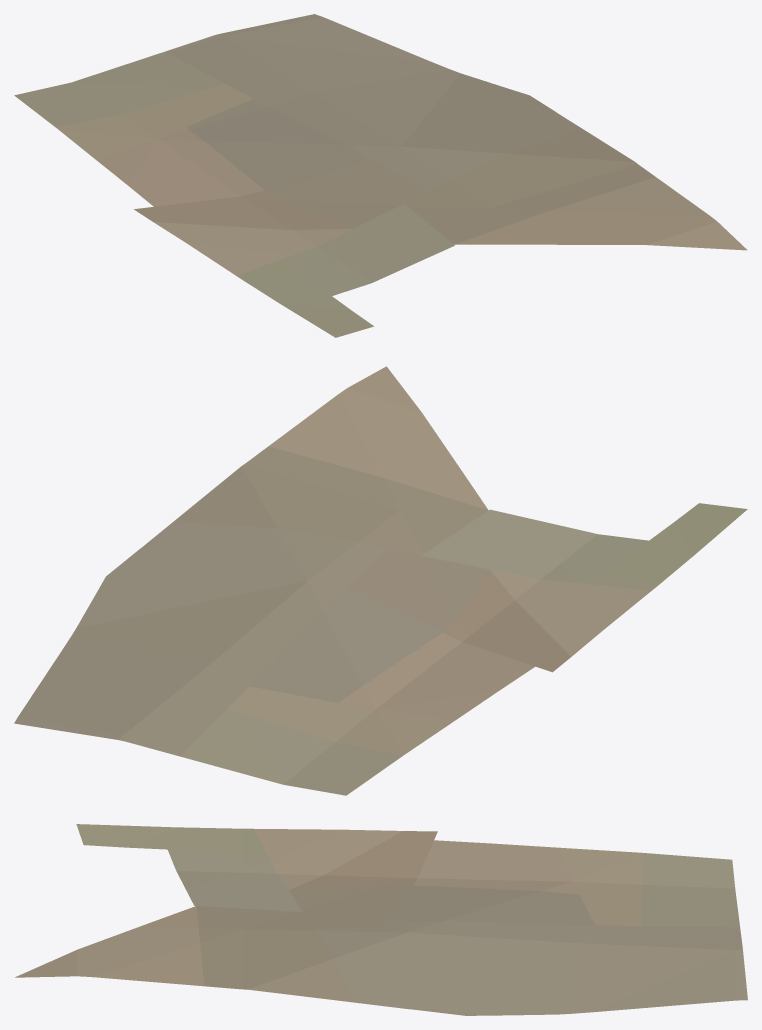
The model's file is farm_-2_10_soil.glb.
The picture shows the model from 3 angles, top to bottom: view 1: azimuth 30°, elevation 25°; view 2: azimuth 150°, elevation 25°; view 3: azimuth 270°, elevation 25°; orthographic projection. The views are drawn at different scales.
Parts seen in each view (by area): view 1: geometry_0; view 2: geometry_0; view 3: geometry_0.
Boxes of the visible parts, x1,y1,x2,y2 form: geometry_0: [14, 14, 747, 337]; geometry_0: [14, 366, 747, 795]; geometry_0: [15, 824, 747, 1015].
Size of the model in its own units: 215 by 24.23 by 356.
